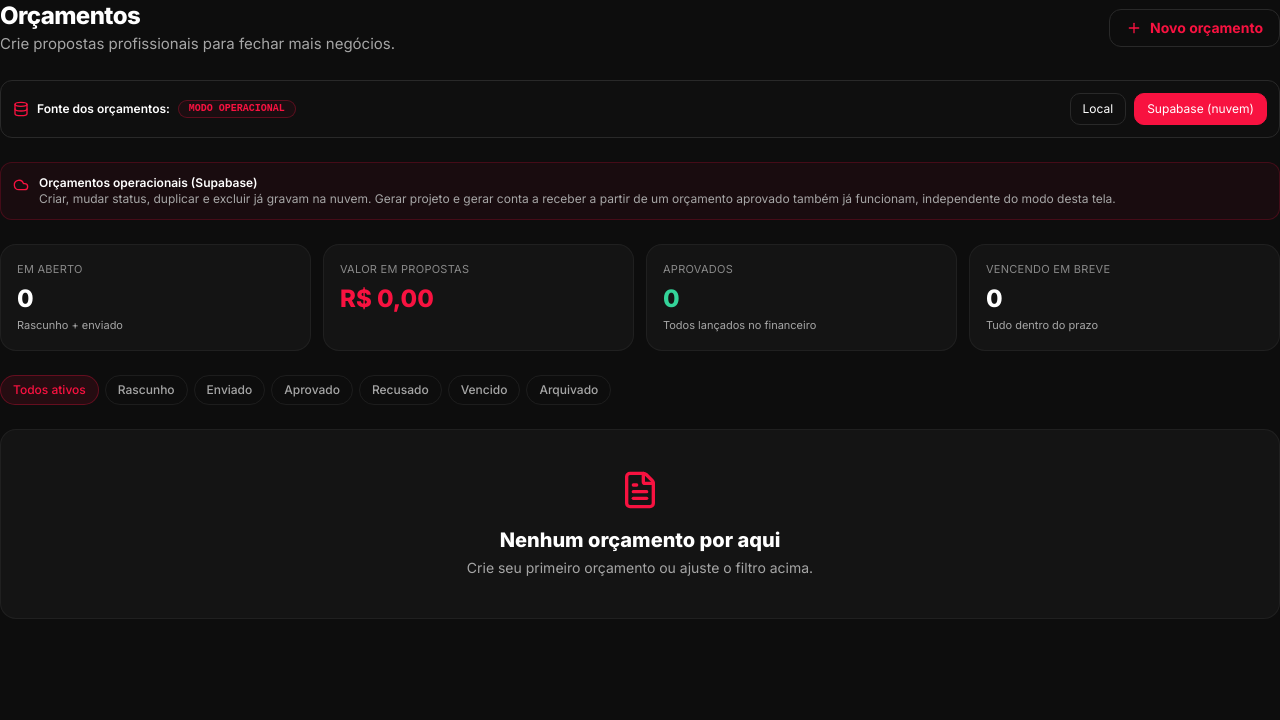
Test: Wizard · catálogo em modo NUVEM (CT5) › lista SÓ serviços da nuvem ativos && availableInQuotes (mesmo filtro da lane B); não mistura o catálogo local; ajuda diz a fonte
The width and height of the screenshot is (1280, 720).
Click the button "Novo orçamento" at [1195, 28], box top-left (1109, 9), bottom-right (1279, 47)
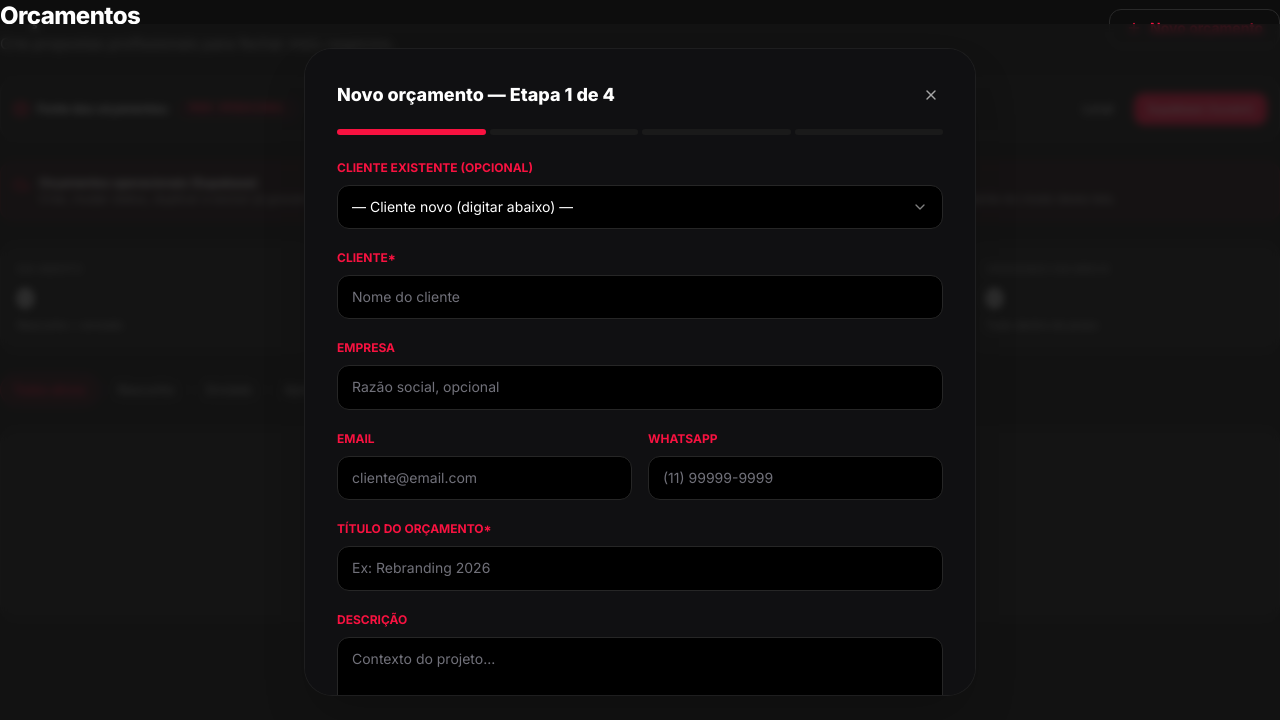
Type "Cliente CT5" into the field with placeholder "Nome do cliente" at [640, 297], box top-left (337, 275), bottom-right (943, 319)
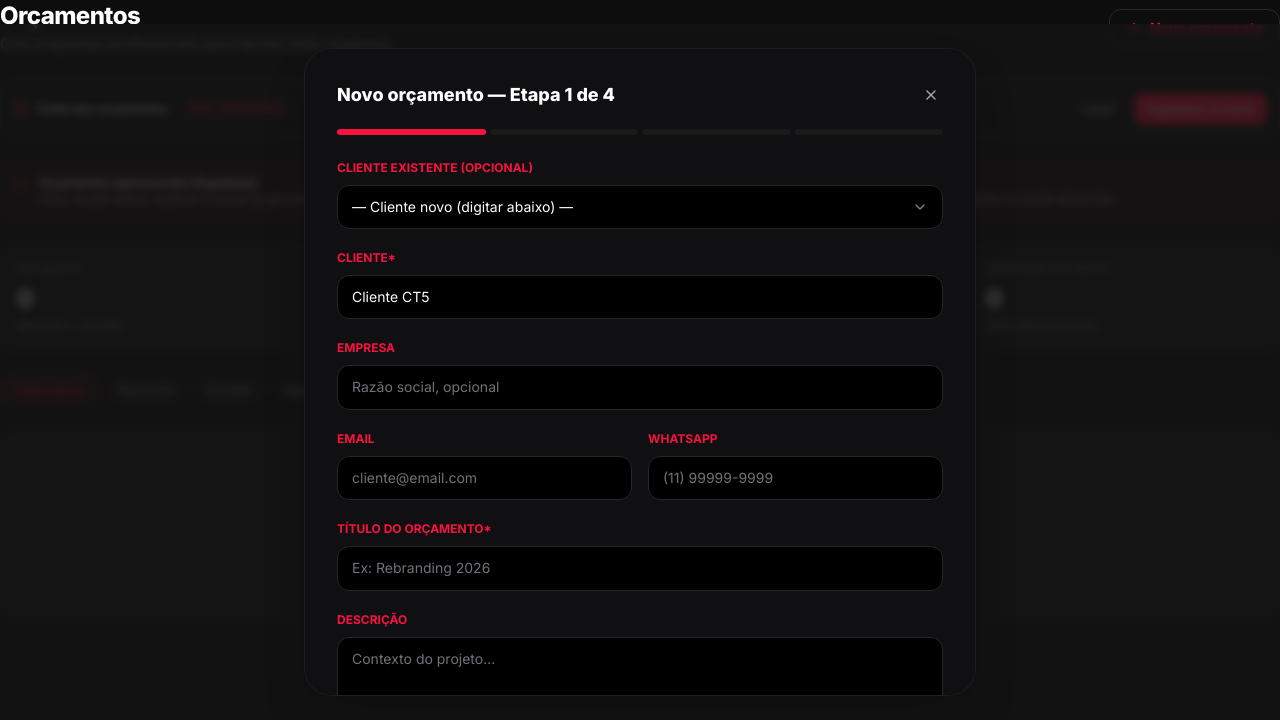
Type "Orçamento CT5" into the field with placeholder "Ex: Rebranding 2026" at [640, 568], box top-left (337, 546), bottom-right (943, 591)
(page scrolled)
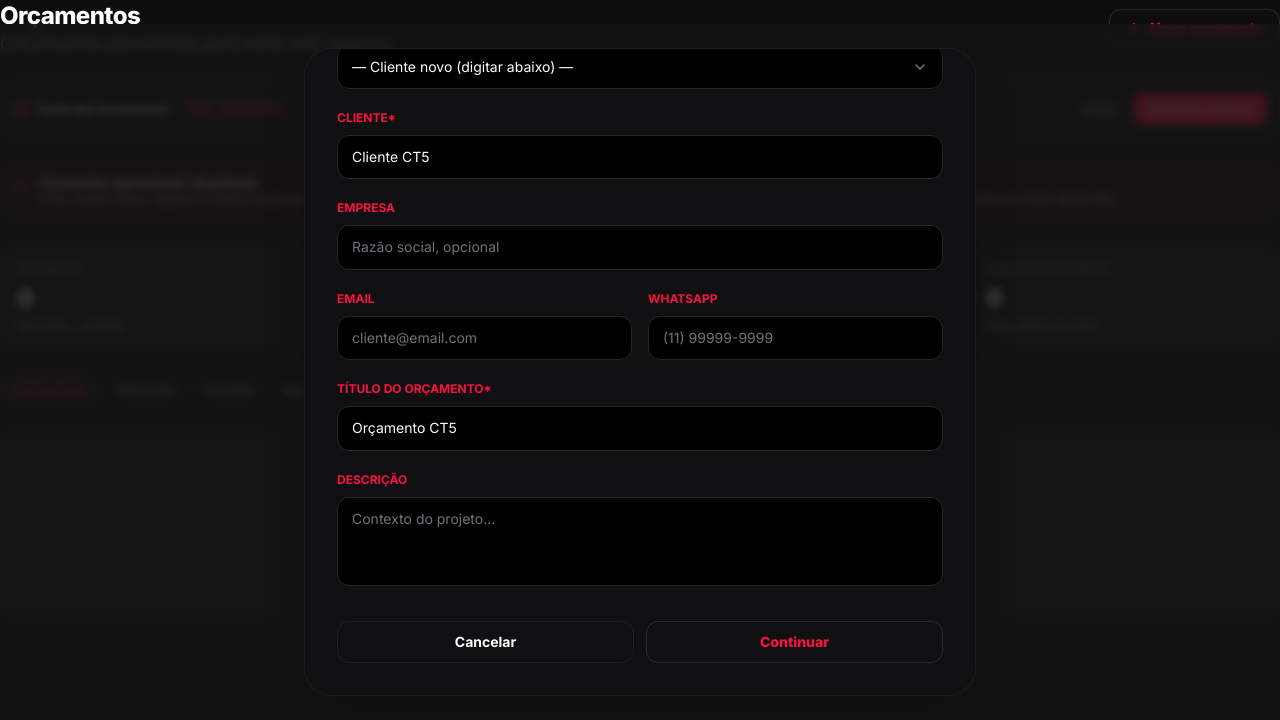
Click the button "Continuar" at [794, 642], box top-left (646, 621), bottom-right (943, 663)
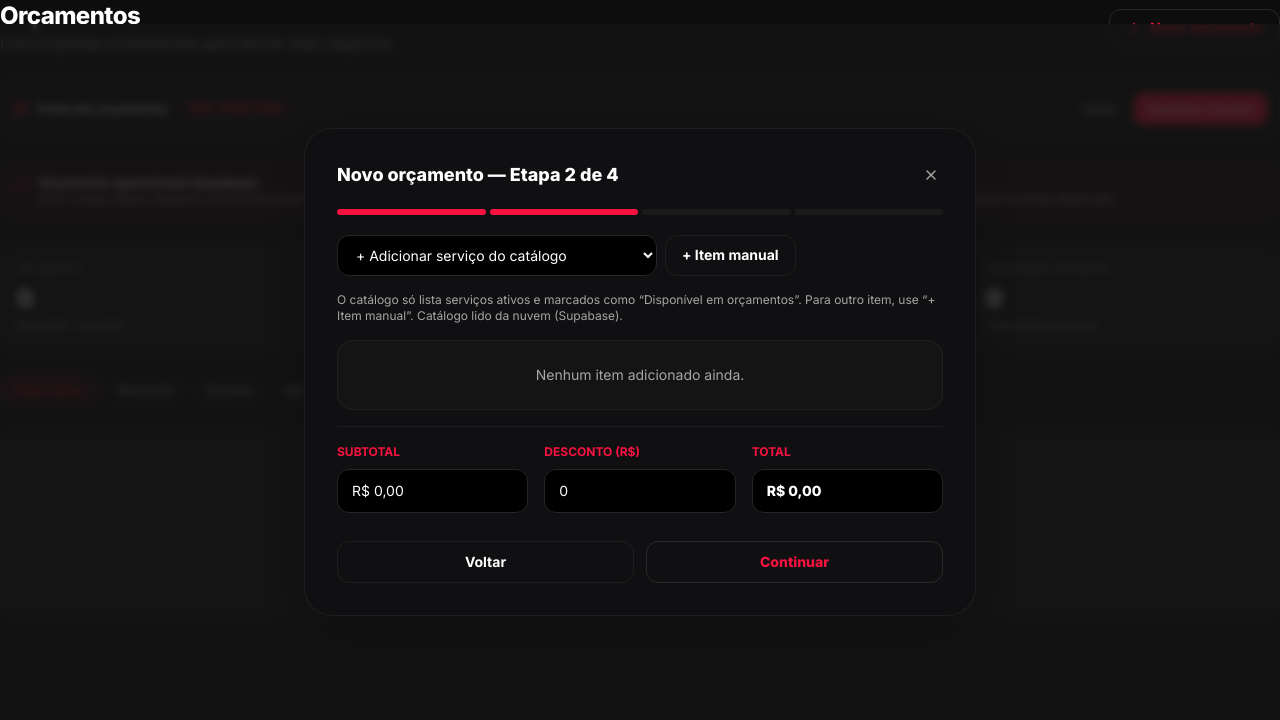
Check: the button "+ Item manual" is shown, box top-left (665, 235), bottom-right (796, 276)
Check: the text "só lista serviços ativos e marcados como" shows "Catálogo lido da nuvem (Supabase).", box top-left (414, 308), bottom-right (623, 323)
